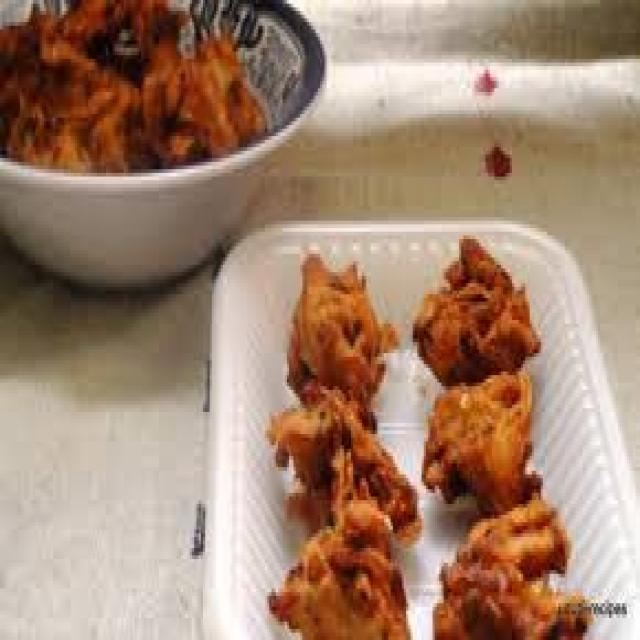BAJI: (415, 235, 589, 636), (269, 261, 419, 636), (289, 254, 397, 423)
